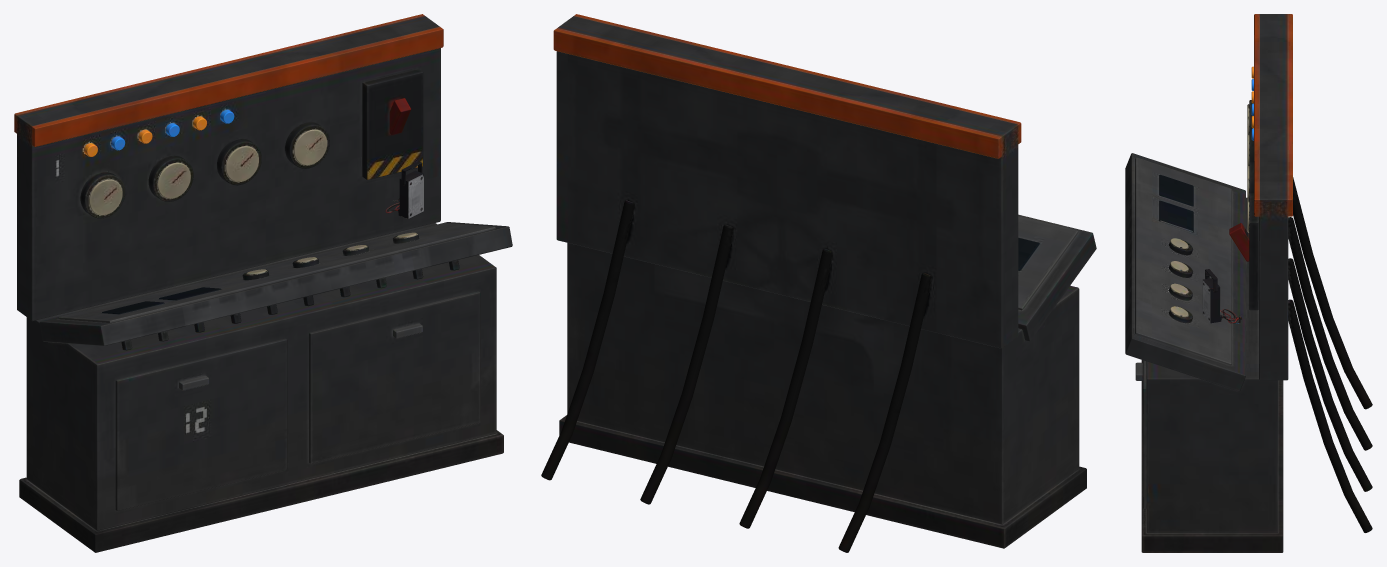
The model's file is control_console.glb.
3 views of the same model, side by side, from view 1: azimuth 30°, elevation 25°; view 2: azimuth 150°, elevation 25°; view 3: azimuth 270°, elevation 25° (orthographic). The views are drawn at different scales.
Parts seen in each view (by area): view 1: control_console; view 2: control_console; view 3: control_console.
Boxes of the visible parts, <box> form: control_console: <box>14,14,512,552</box>; control_console: <box>541,14,1096,552</box>; control_console: <box>1125,14,1372,552</box>.
Size of the model in its own units: 1.8 by 1.6 by 1.01.
Materials: 1 (1 with a texture image).
